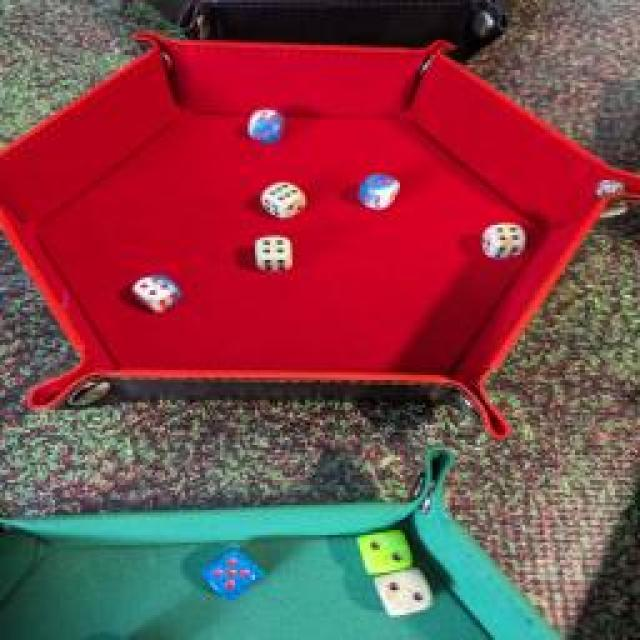dice_2: (351, 522, 421, 576), (370, 564, 438, 618)
dice_3: (356, 171, 402, 211)
dice_4: (135, 269, 185, 316), (250, 232, 298, 272), (480, 222, 530, 258)
dice_5: (204, 551, 268, 599)
dice_6: (256, 179, 309, 219), (245, 108, 295, 144)
